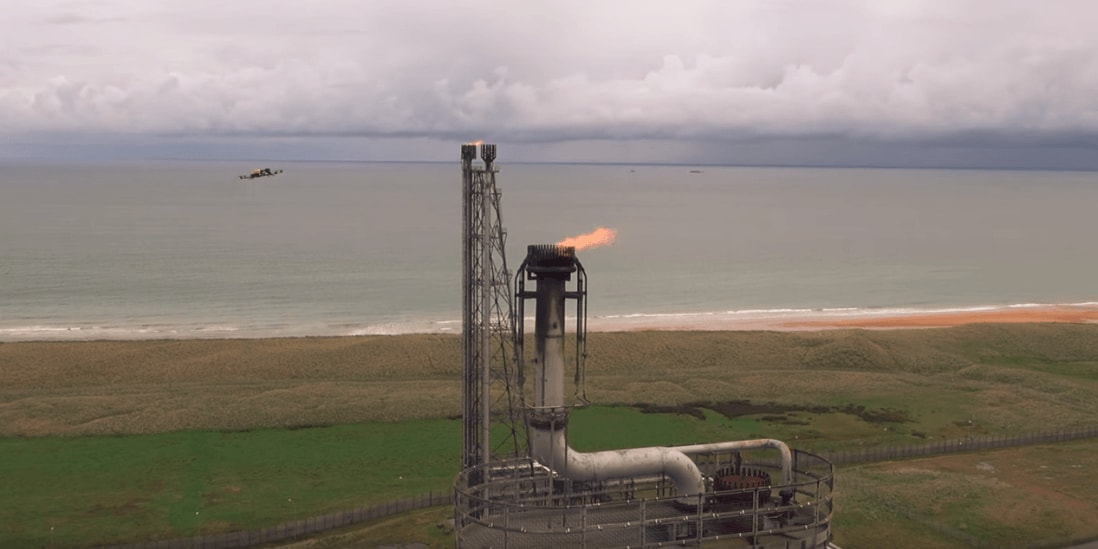drone: (236, 164, 288, 186)
